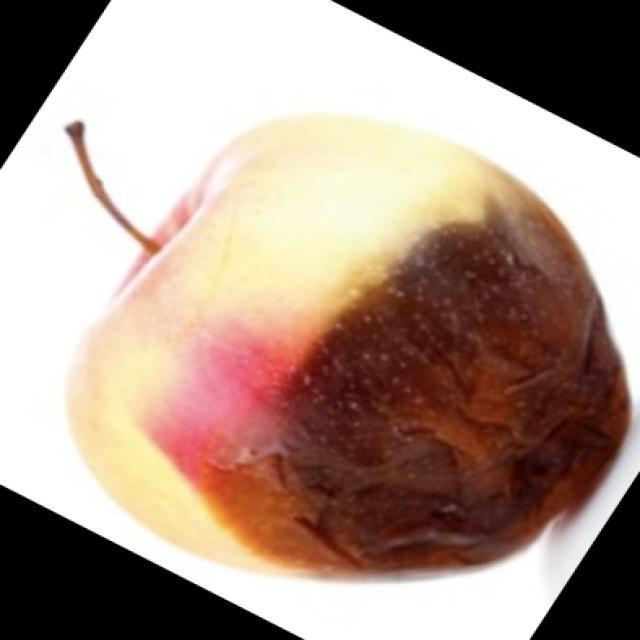Rotten: (60, 128, 622, 572)
